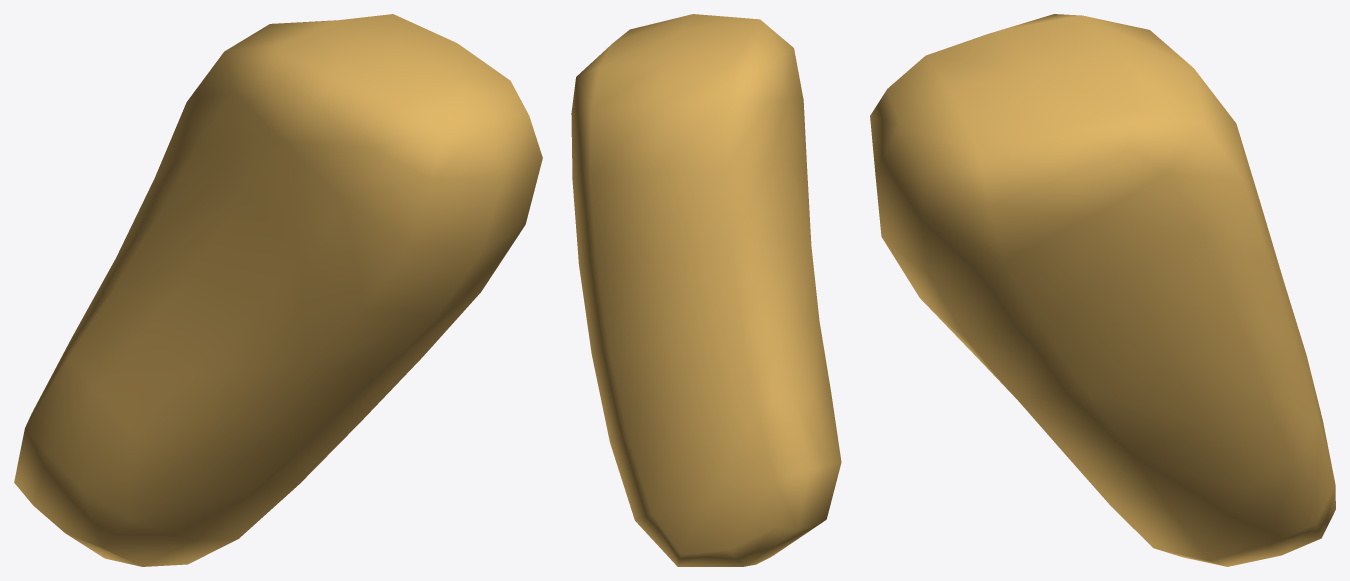
3 renders of one model, left to right at view 1: azimuth 30°, elevation 25°; view 2: azimuth 150°, elevation 25°; view 3: azimuth 270°, elevation 25°, orthographic. The views are drawn at different scales.
Parts seen in each view (by area): view 1: 左侧副腮腺; view 2: 左侧副腮腺; view 3: 左侧副腮腺.
Part boxes in pixels (x1,y1,x2,y2): 左侧副腮腺: (14, 14, 542, 566); 左侧副腮腺: (571, 14, 841, 566); 左侧副腮腺: (870, 14, 1335, 566).
Size of the model in its own units: 0.0123 by 0.0172 by 0.0127.
